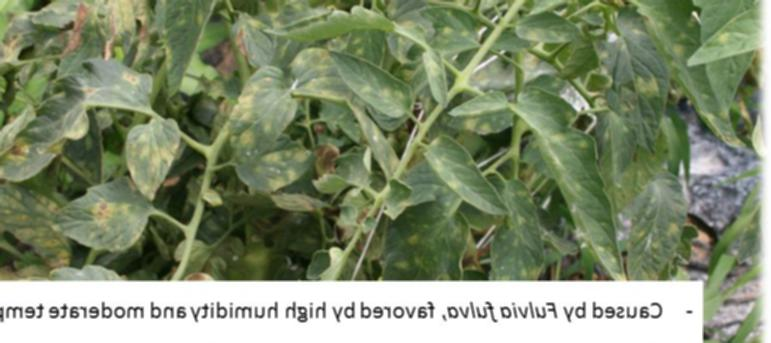Tomato mold leaf: (522, 88, 630, 278), (621, 0, 749, 147), (0, 63, 129, 182), (276, 40, 411, 120), (606, 25, 675, 175), (44, 174, 151, 255), (162, 0, 240, 101), (422, 134, 511, 221), (0, 164, 74, 261), (228, 64, 299, 158), (122, 115, 188, 208), (493, 178, 548, 278), (414, 3, 480, 54), (444, 89, 516, 127), (509, 13, 579, 46), (421, 48, 447, 108)
